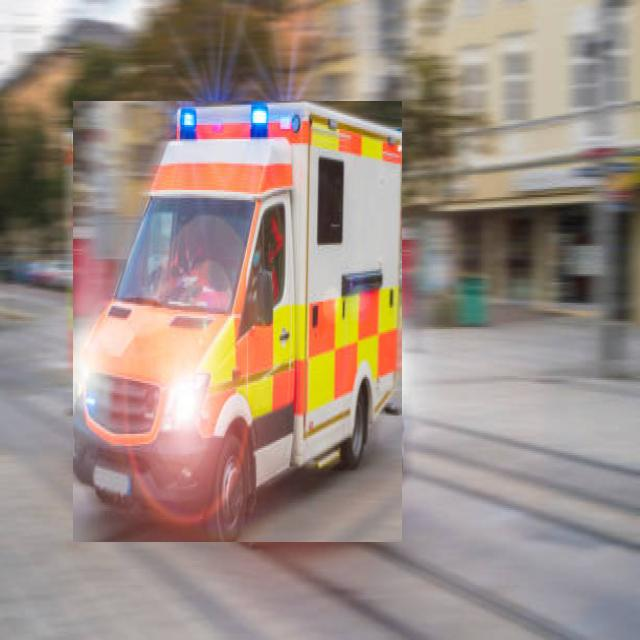emergency: (73, 102, 402, 542)
